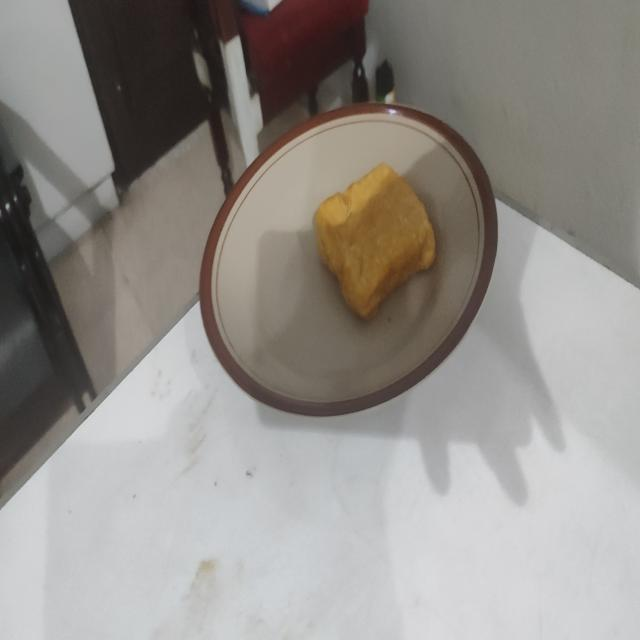tahu_goreng: (314, 164, 436, 318)
